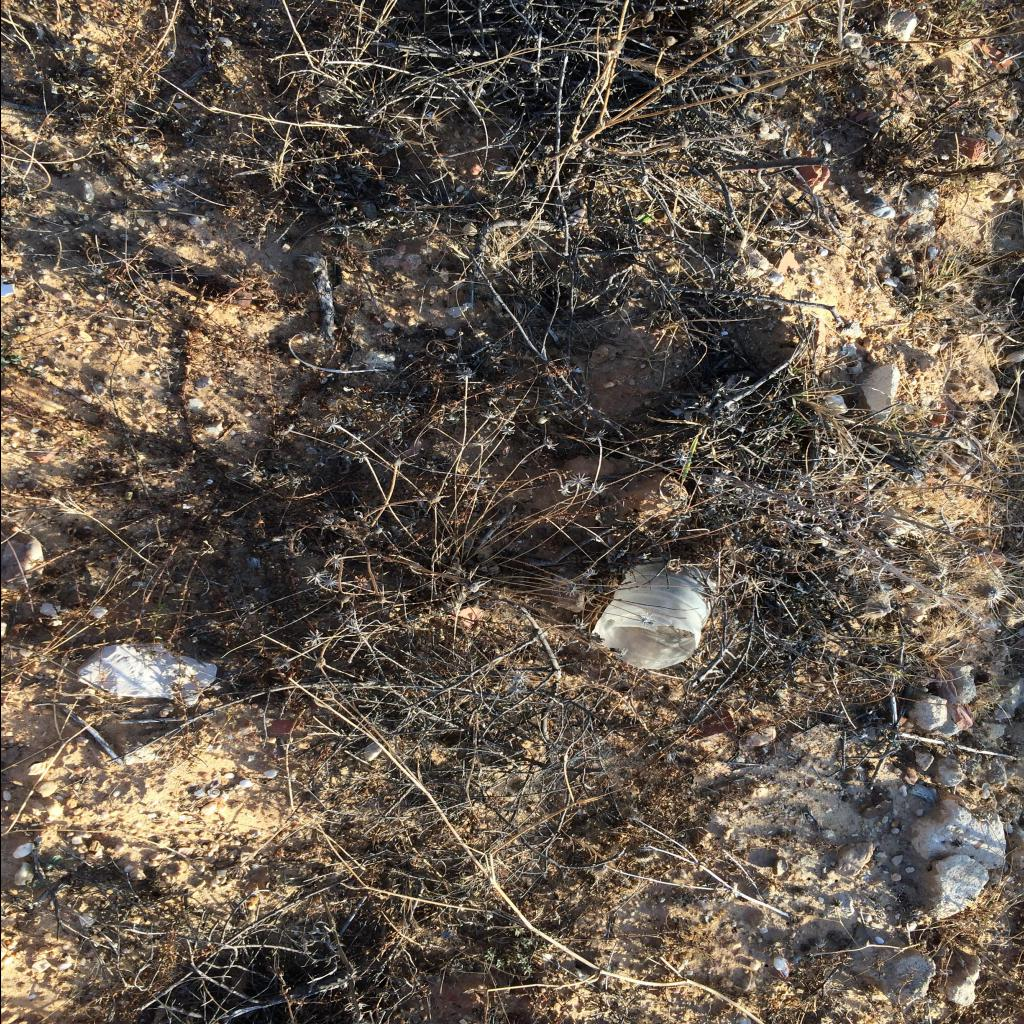Clear plastic bottle: (592, 558, 716, 670)
